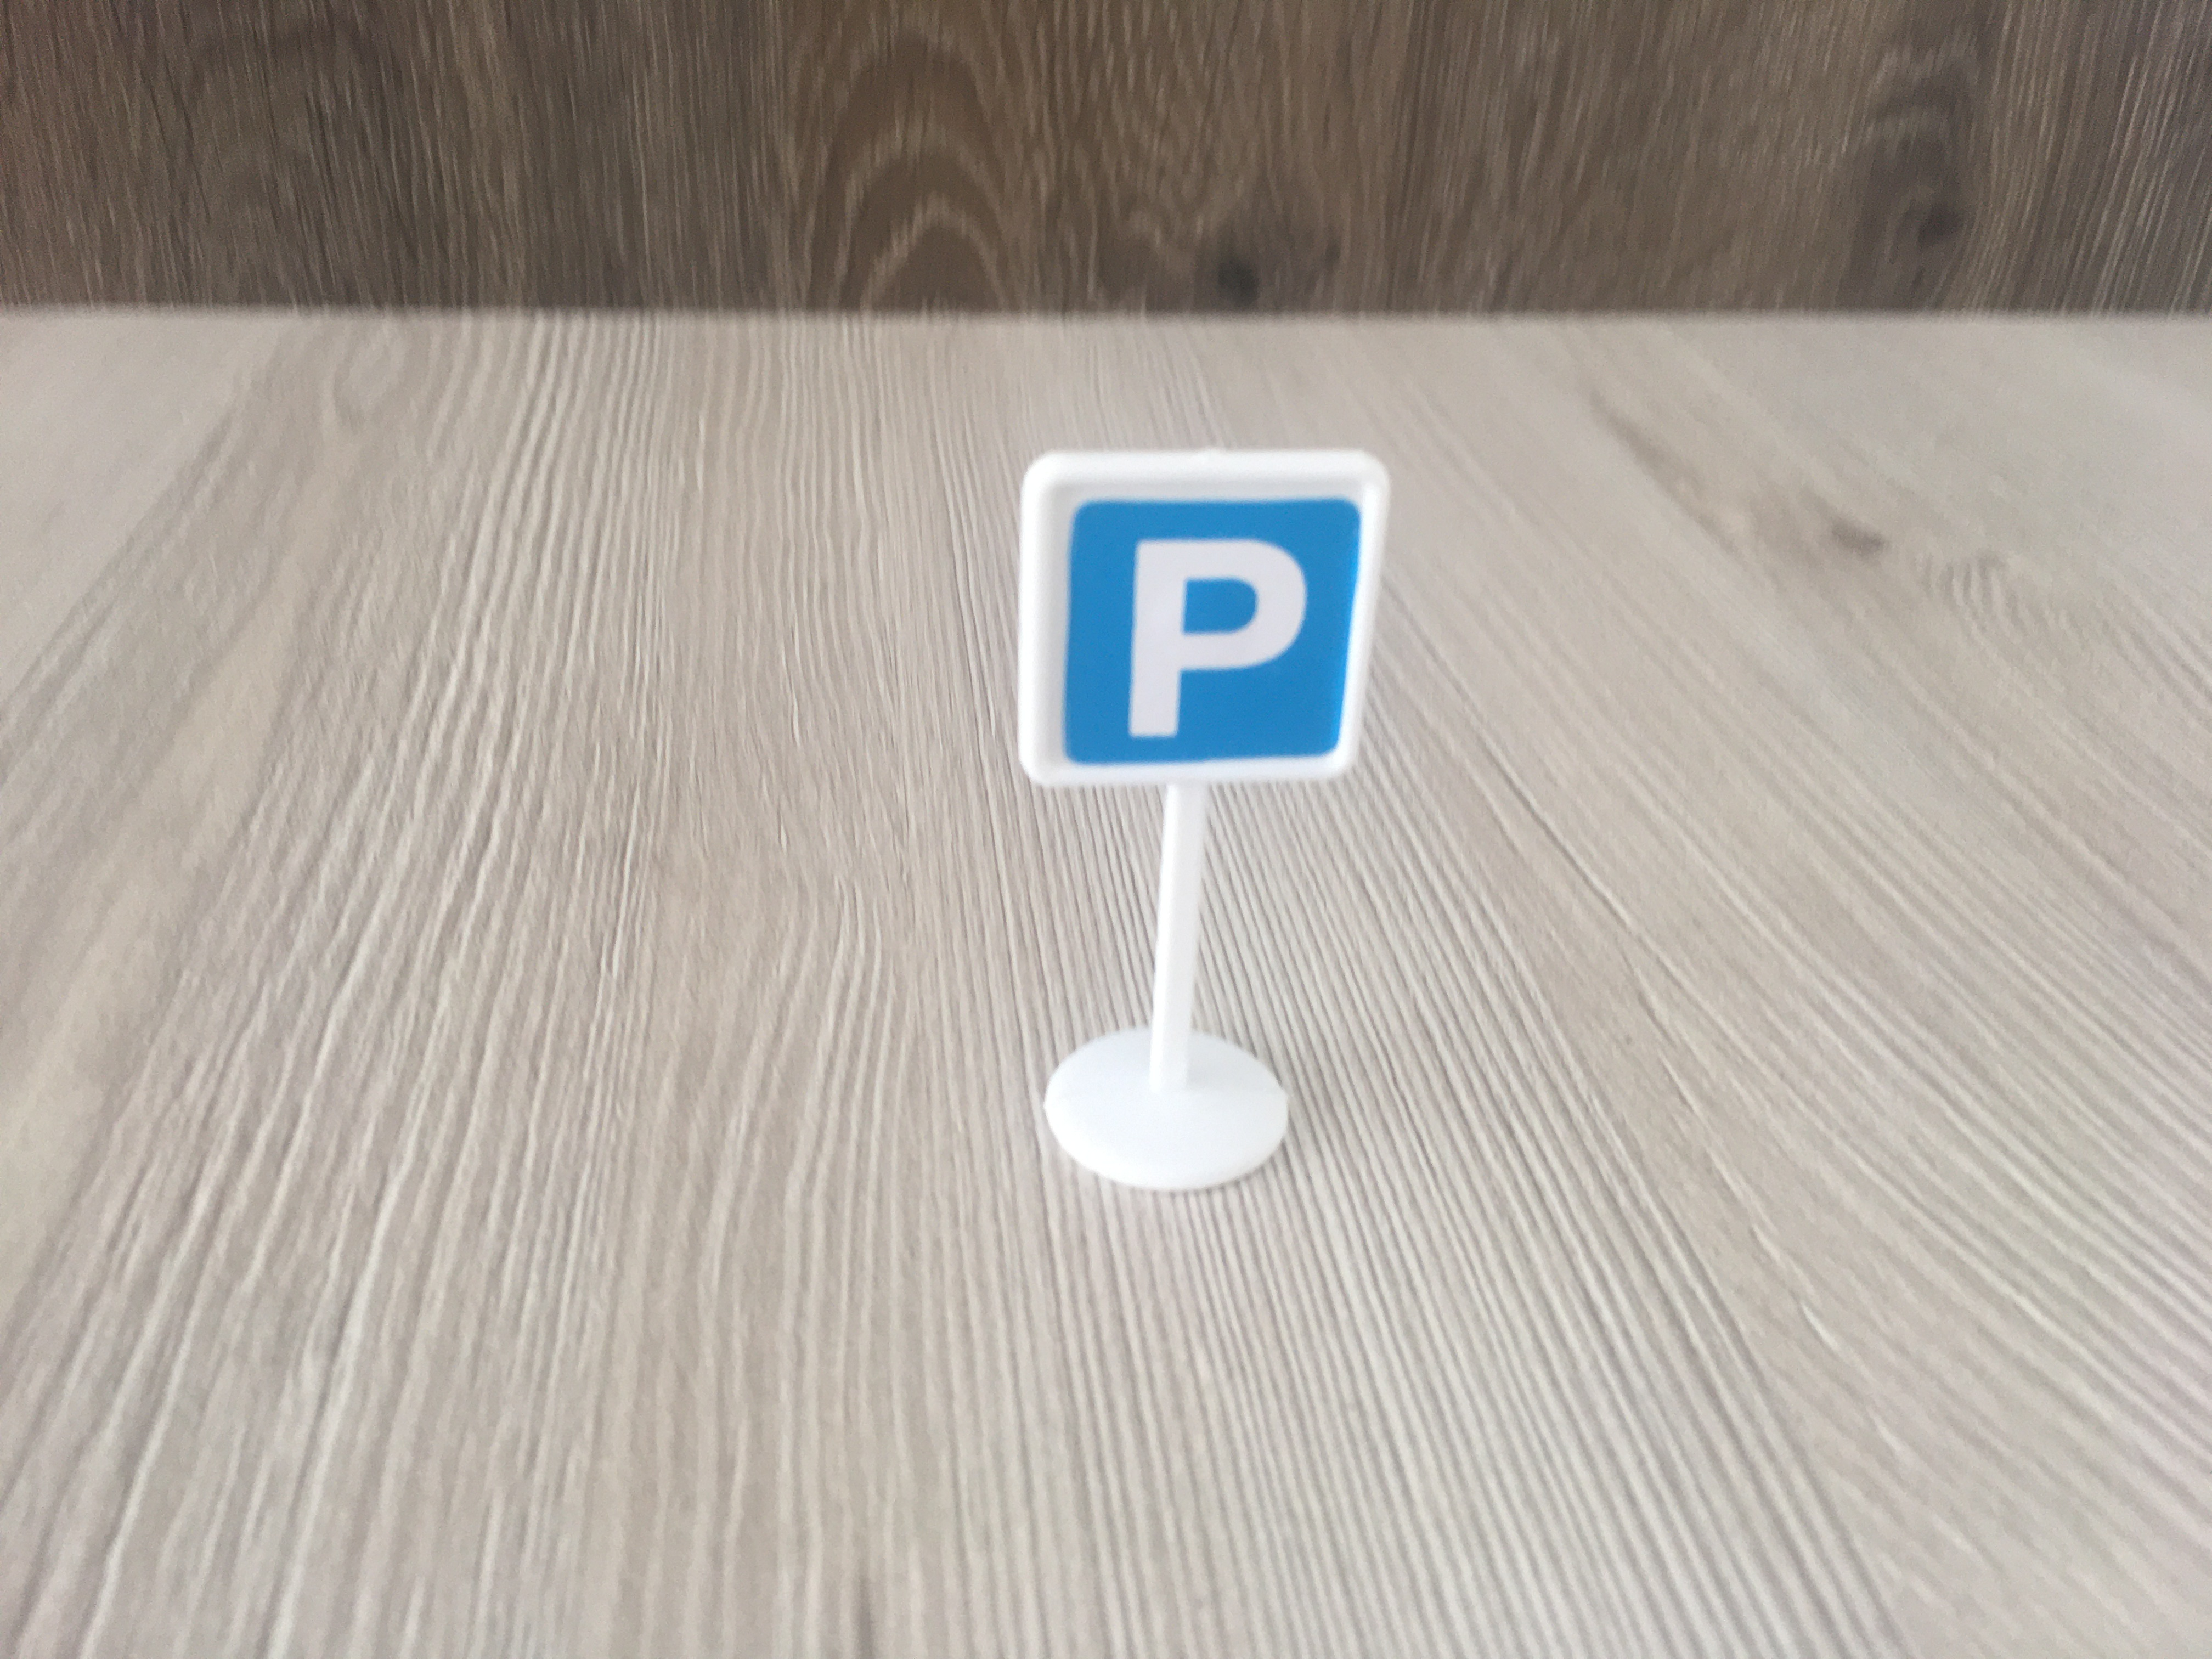parking: (1022, 460, 1376, 789)
